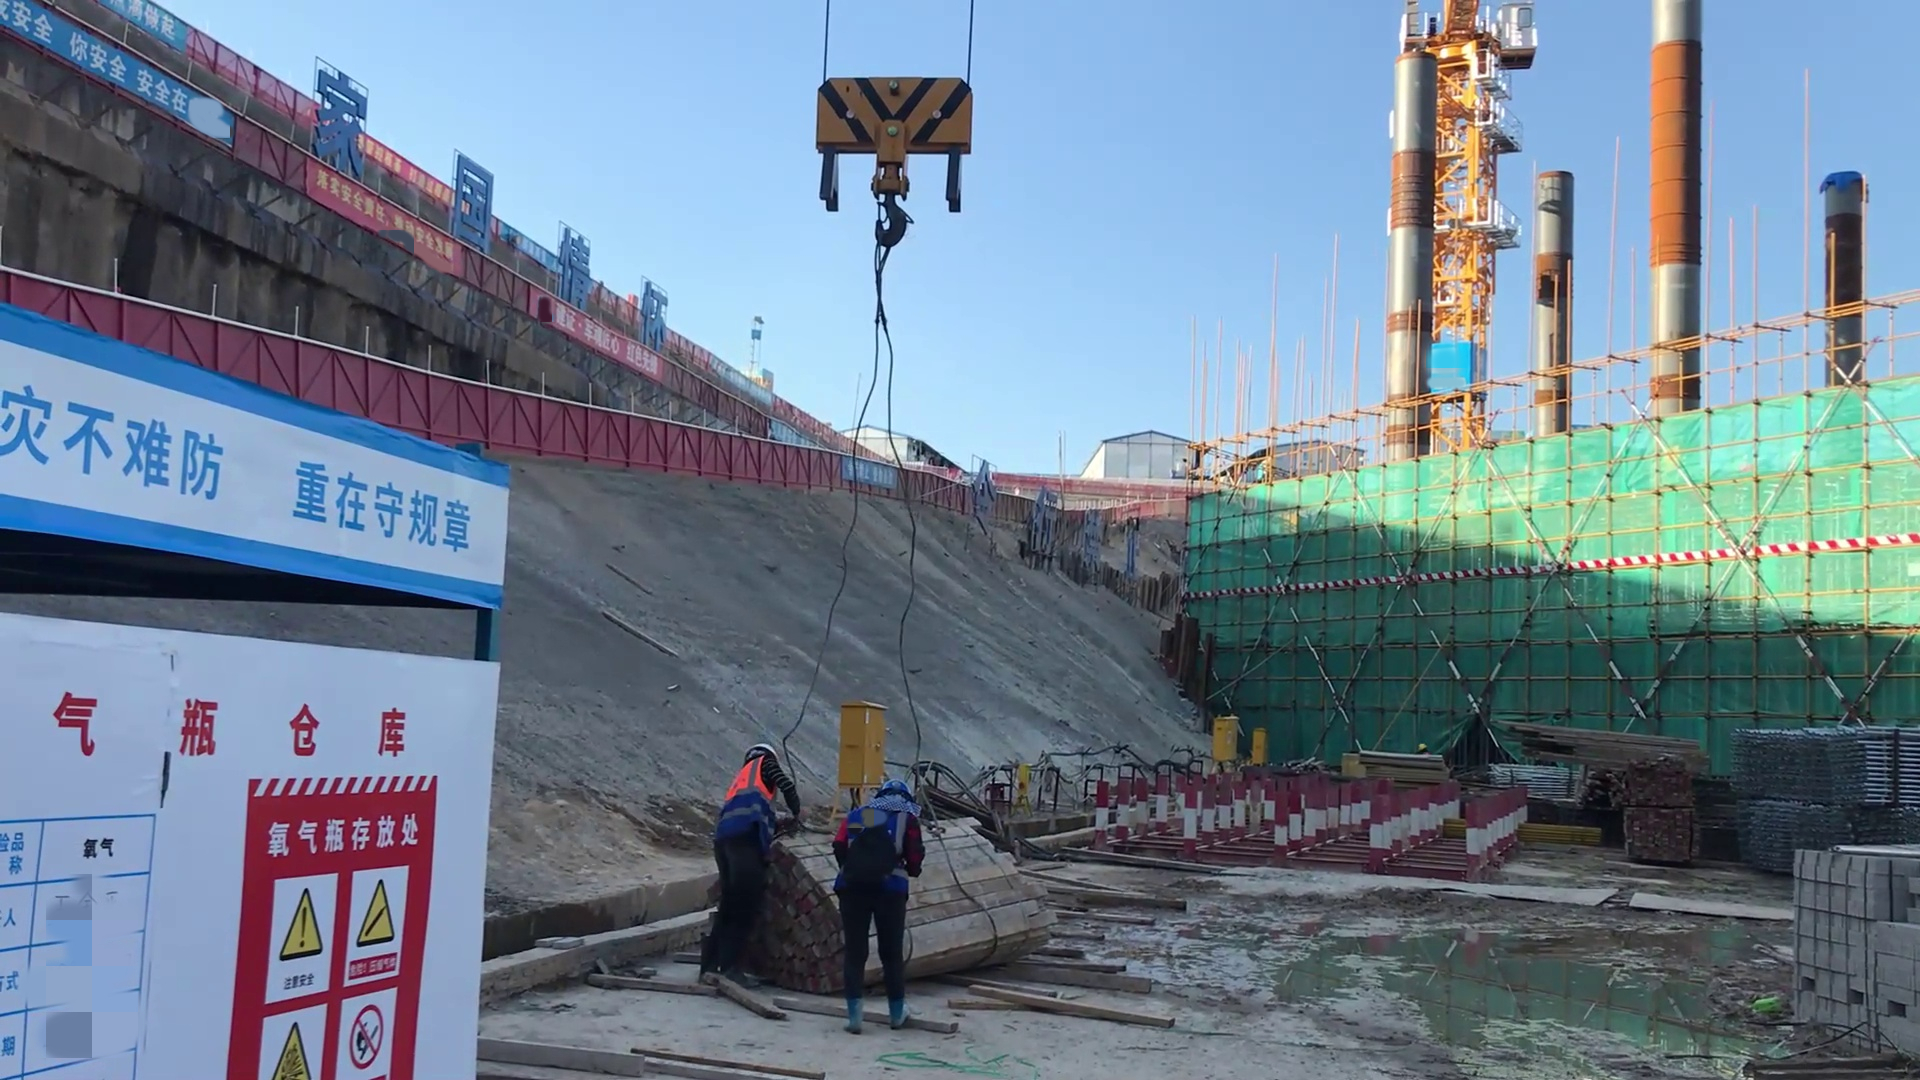brick: (1773, 842, 1920, 1050)
ebox: (841, 688, 891, 783), (1208, 714, 1237, 772), (1247, 723, 1272, 766)
fence: (509, 399, 767, 484)
helmet: (866, 776, 923, 812), (739, 737, 779, 772)
hook: (803, 68, 973, 220)
person: (832, 773, 921, 1037), (699, 736, 791, 983)
scaffold: (1729, 705, 1920, 835)
slogan: (1, 385, 503, 557), (207, 842, 427, 1080), (18, 9, 234, 141), (281, 157, 460, 294)
vest: (725, 762, 776, 806)
wood: (911, 818, 1054, 985), (1497, 715, 1688, 797)
